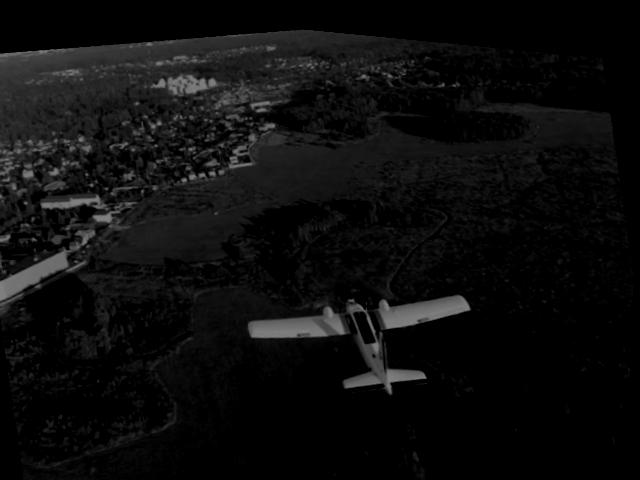hedef: (233, 245, 504, 428)
